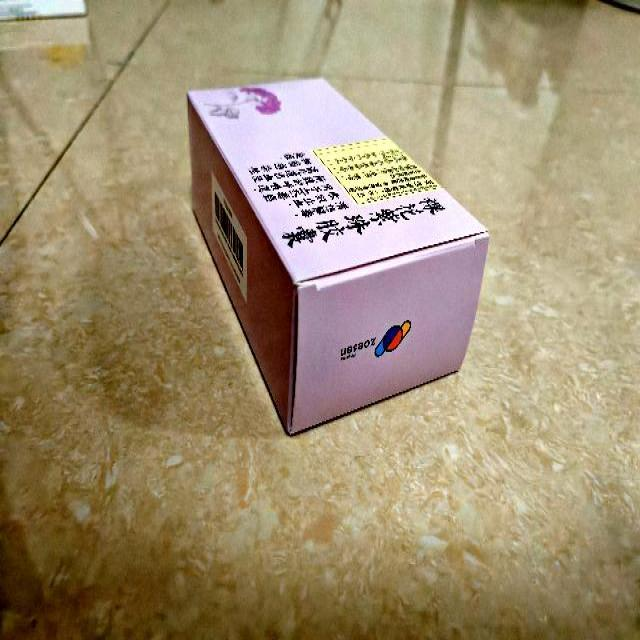box: (186, 78, 489, 437)
